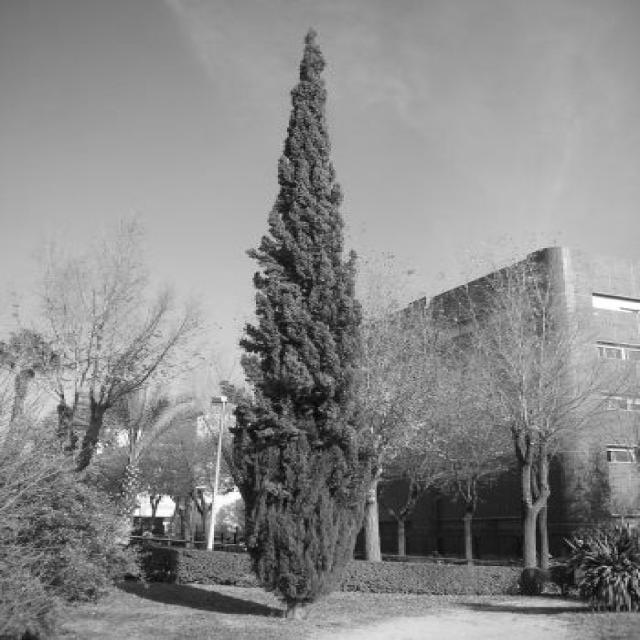cipres: (226, 25, 376, 617)
